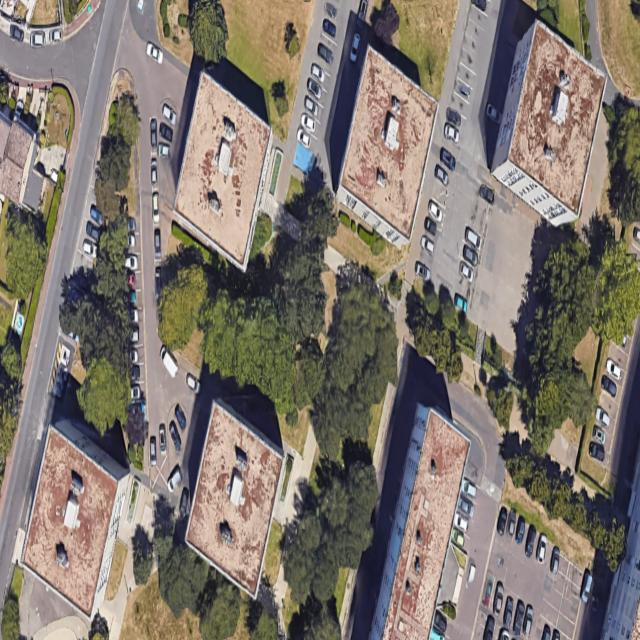immeuble: (482, 17, 617, 232), (13, 414, 139, 621), (368, 404, 476, 640), (163, 72, 284, 275), (328, 45, 447, 251), (176, 399, 293, 600)
